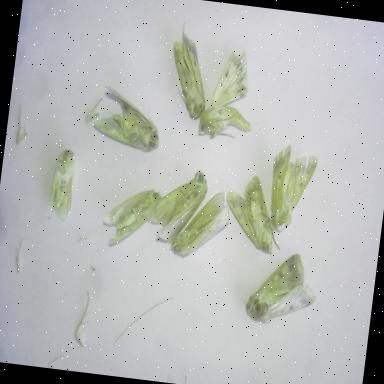abw: (191, 42, 268, 148), (240, 244, 324, 332), (136, 158, 213, 252), (218, 169, 292, 260), (261, 137, 325, 240), (86, 80, 168, 157), (160, 15, 218, 122), (166, 182, 236, 268), (97, 180, 166, 258), (41, 142, 83, 229)
